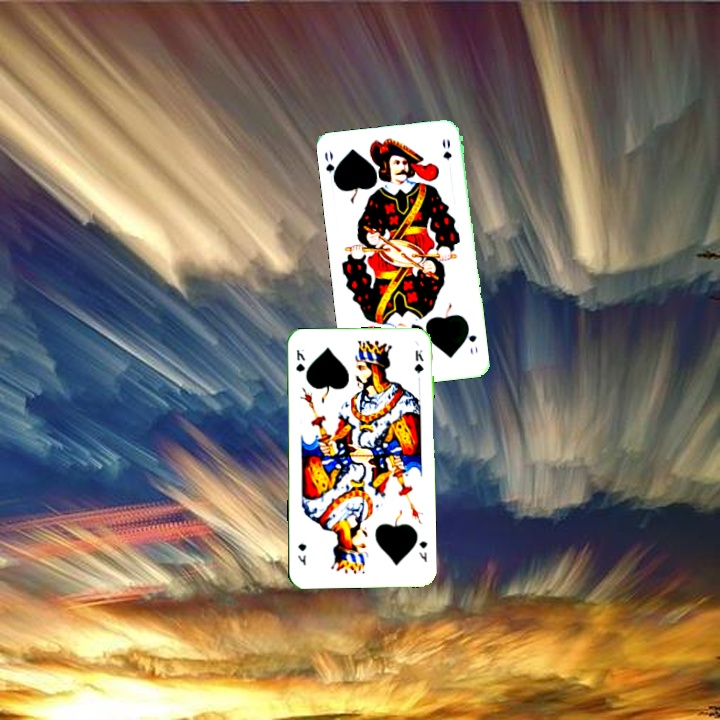GK: (292, 345, 307, 374), (415, 537, 430, 565)
GO: (321, 147, 341, 187), (462, 321, 480, 358)
